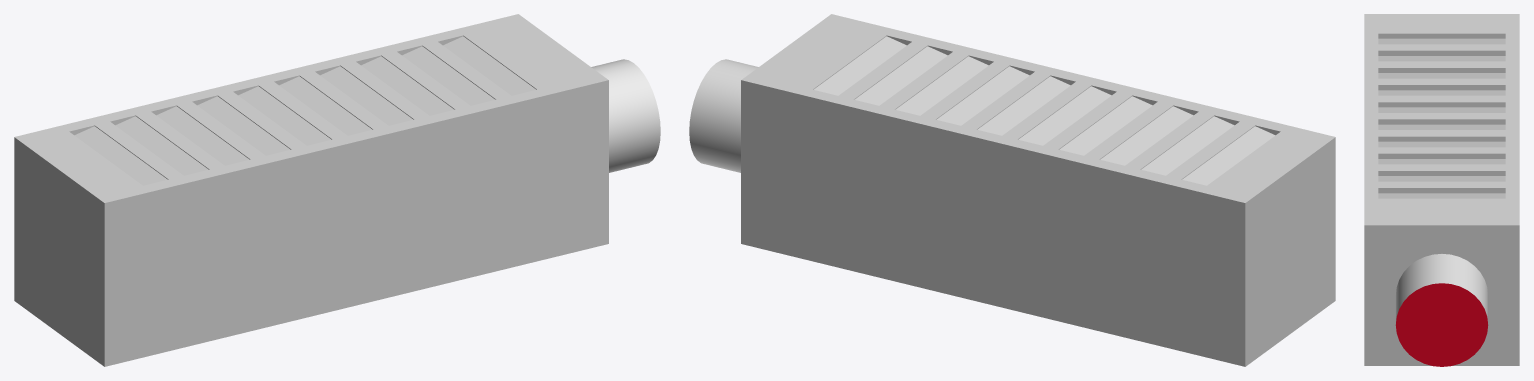
The model's file is LaserGenerator.glb.
The picture shows the model from 3 angles, left to right: view 1: azimuth 30°, elevation 25°; view 2: azimuth 150°, elevation 25°; view 3: azimuth 270°, elevation 25°; orthographic projection. The views are drawn at different scales.
Parts seen in each view (by area): view 1: Cube, Cylinder; view 2: Cube, Cylinder; view 3: Cube, Cylinder.
Part boxes in pixels (x1=…): Cube: x1=14, y1=14, x2=608, y2=366; Cylinder: x1=591, y1=59, x2=660, y2=172; Cube: x1=741, y1=14, x2=1335, y2=366; Cylinder: x1=689, y1=59, x2=758, y2=172; Cube: x1=1364, y1=14, x2=1519, y2=365; Cylinder: x1=1395, y1=254, x2=1488, y2=366.
Bounding box in the file's own units: 0.3036 × 0.0827 × 0.0827.
